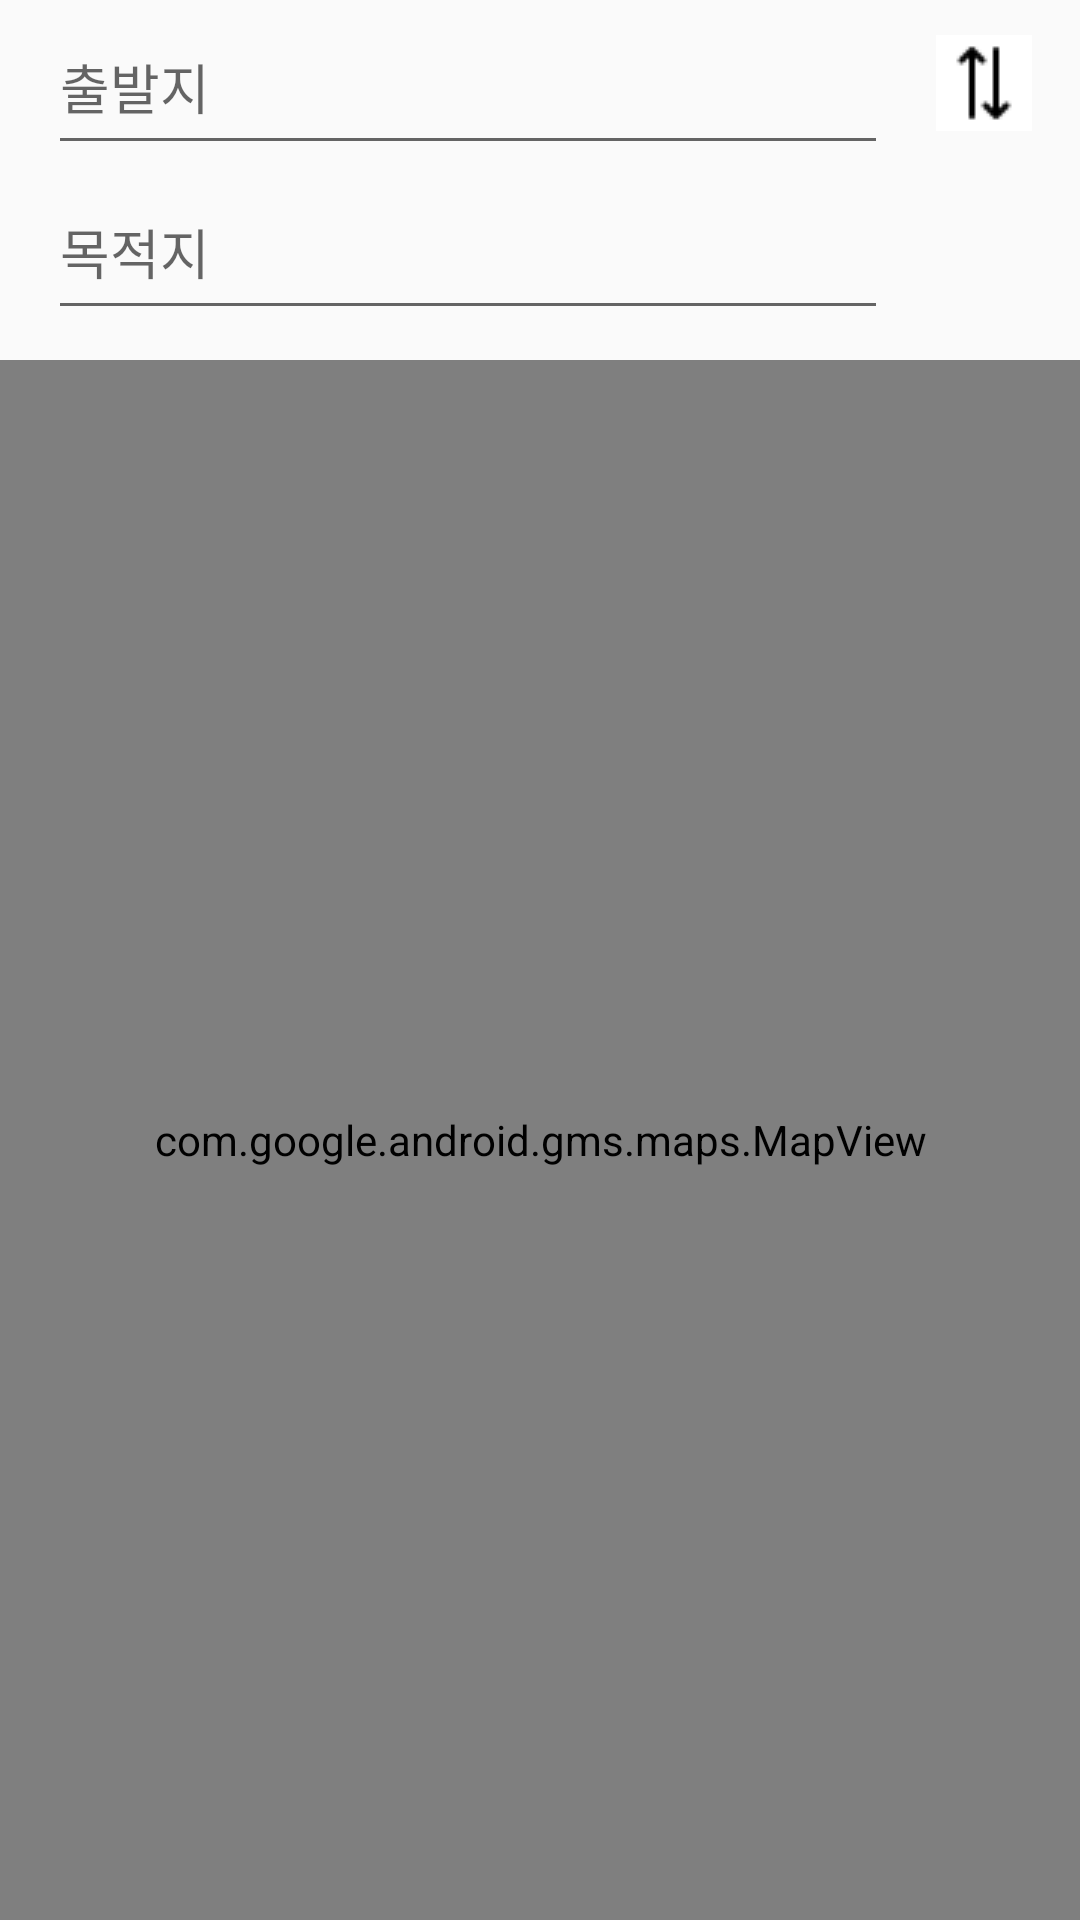

Where to tap for icons on this 1080w x 1920h app screen, as (x,y):
switch: (984,83)
